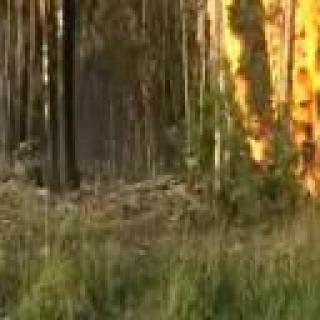fire: (192, 0, 320, 166), (24, 0, 91, 78), (302, 174, 320, 234)
